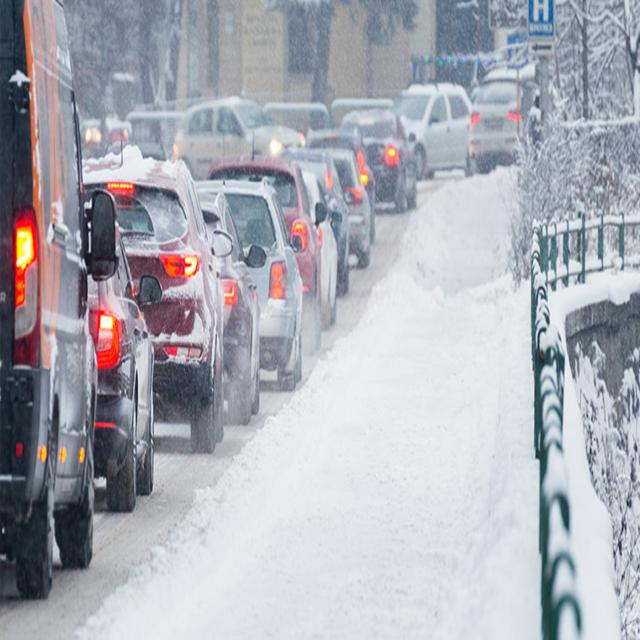car: (5, 13, 84, 602), (96, 156, 224, 457), (88, 194, 154, 518), (200, 192, 258, 430), (232, 187, 298, 386), (267, 164, 321, 358), (171, 97, 291, 180), (335, 104, 417, 210), (393, 81, 475, 179), (468, 69, 534, 173), (308, 177, 336, 334), (320, 150, 348, 299), (346, 164, 368, 276)
